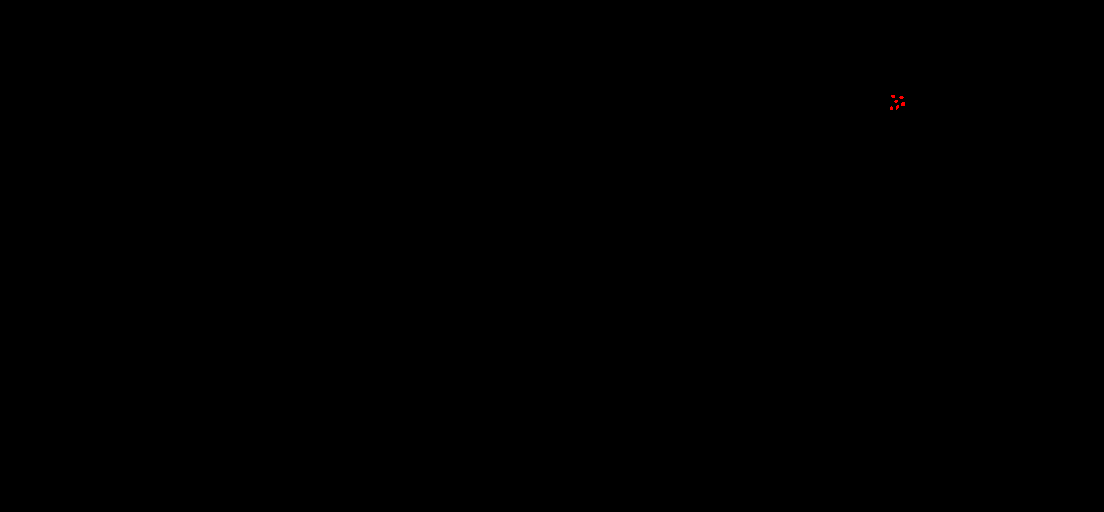Target: (901, 102, 905, 106), (899, 96, 904, 99), (896, 105, 899, 110), (891, 95, 895, 98), (894, 100, 898, 103), (890, 106, 893, 110)
